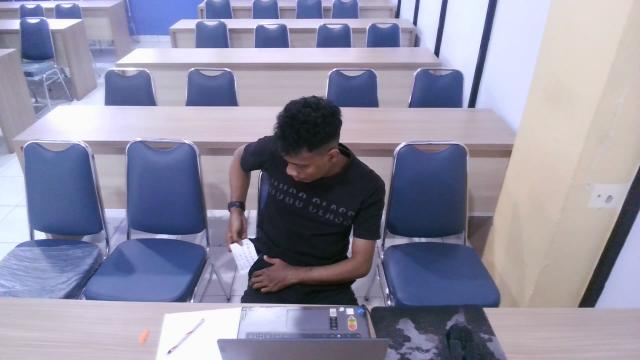Cheat_Sheet: (225, 234, 268, 278)
Head_Down_Extreme: (209, 90, 399, 345)
